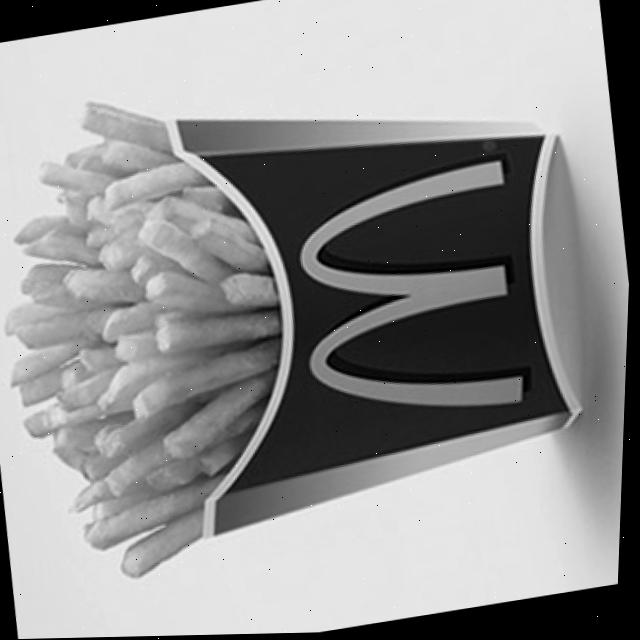炸货点心: (0, 7, 639, 622)
